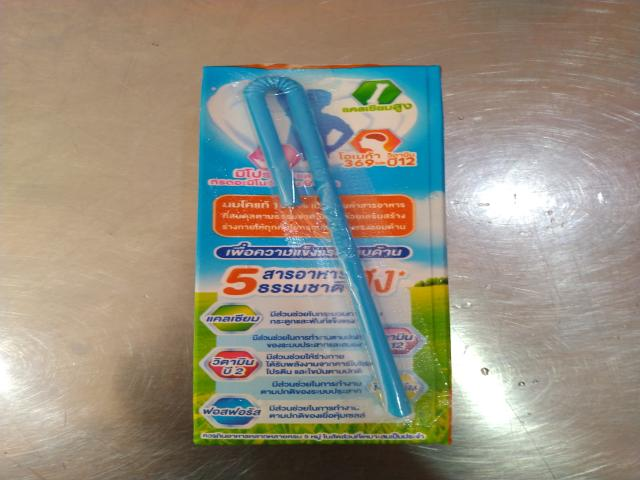drink_box: (193, 64, 452, 444)
